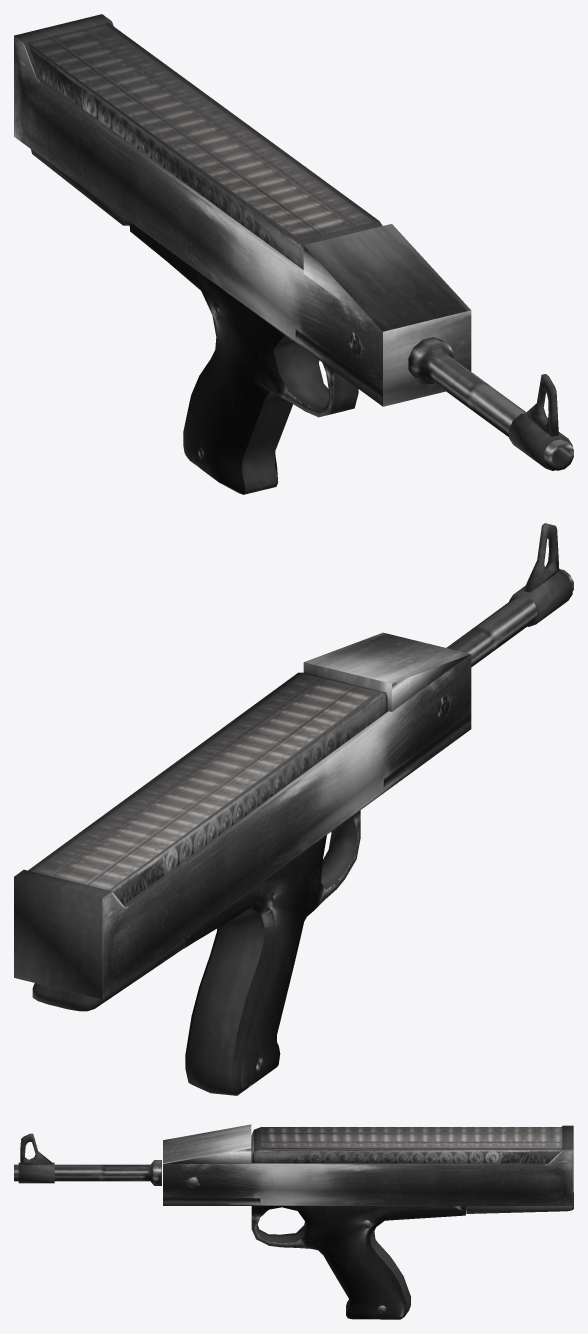
Rendered from SM_Hill_H15_00.fbx.
3 renders of one model, top to bottom at view 1: azimuth 30°, elevation 25°; view 2: azimuth 150°, elevation 25°; view 3: azimuth 270°, elevation 25°, orthographic. The views are drawn at different scales.
Parts seen in each view (by area): view 1: SM_Hill_H15_00; view 2: SM_Hill_H15_00; view 3: SM_Hill_H15_00.
Boxes of the visible parts, box(x1,y1,x2,y2) form: SM_Hill_H15_00: box(14, 14, 573, 494); SM_Hill_H15_00: box(14, 523, 573, 1095); SM_Hill_H15_00: box(14, 1124, 573, 1319).
Size of the model in its own units: 6.49 by 22.17 by 62.2.
